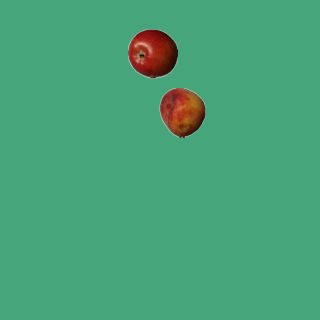Apple Braeburn: (127, 28, 177, 78)
Peach: (157, 87, 207, 137)
